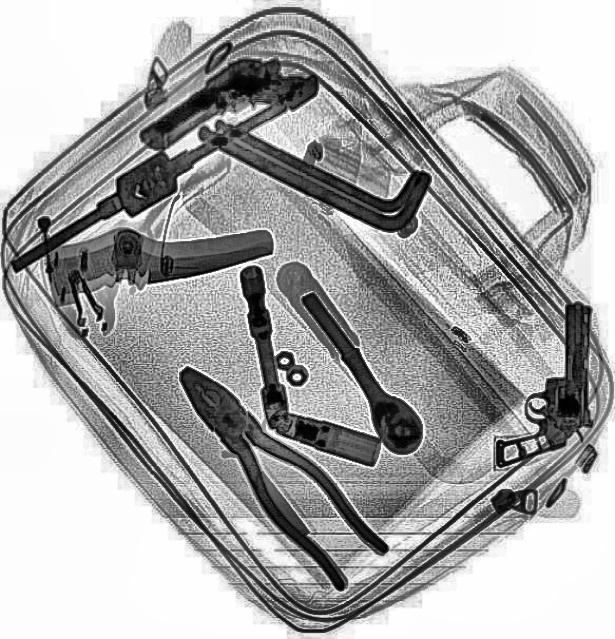Gun: (131, 28, 325, 184), (494, 303, 596, 468)
Pliers: (154, 346, 394, 592)
